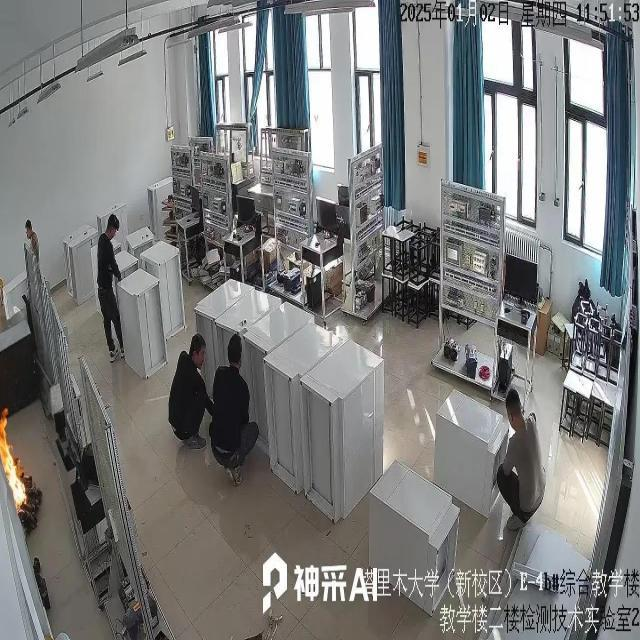smoke: (0, 404, 31, 515)
